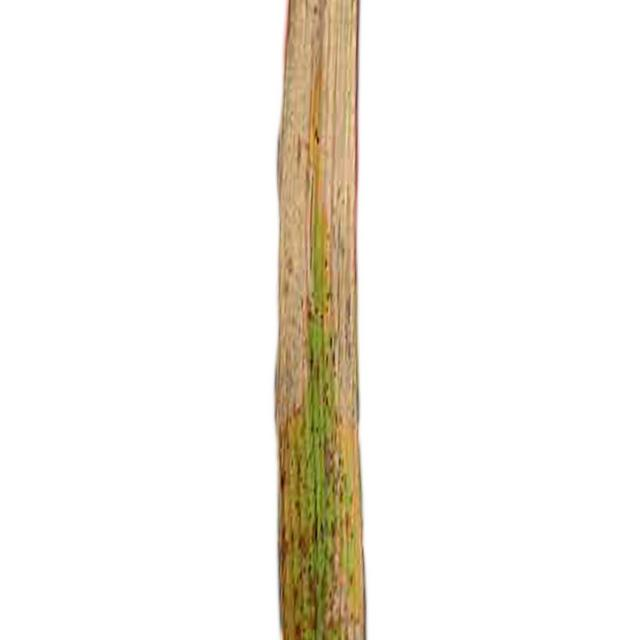Leaf scald: (195, 0, 400, 640)
